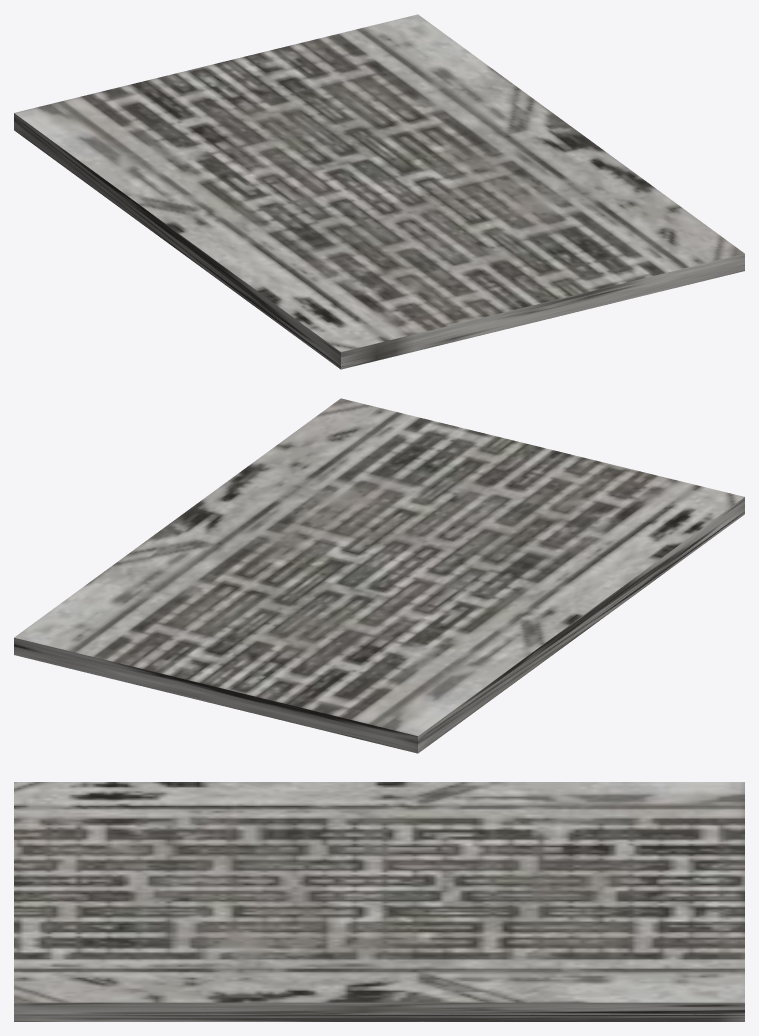
File: roof-panel.glb
3 renders of one model, top to bottom at view 1: azimuth 30°, elevation 25°; view 2: azimuth 150°, elevation 25°; view 3: azimuth 270°, elevation 25°, orthographic. The views are drawn at different scales.
Parts seen in each view (by area): view 1: defaultMaterial; view 2: defaultMaterial; view 3: defaultMaterial.
Boxes of the visible parts, x1,y1,x2,y2 form: defaultMaterial: (14, 14, 744, 369); defaultMaterial: (14, 398, 744, 753); defaultMaterial: (14, 782, 744, 1021).
Size of the model in its own units: 4.53 by 0.1865 by 6.35.
1 material, 1 textured.
